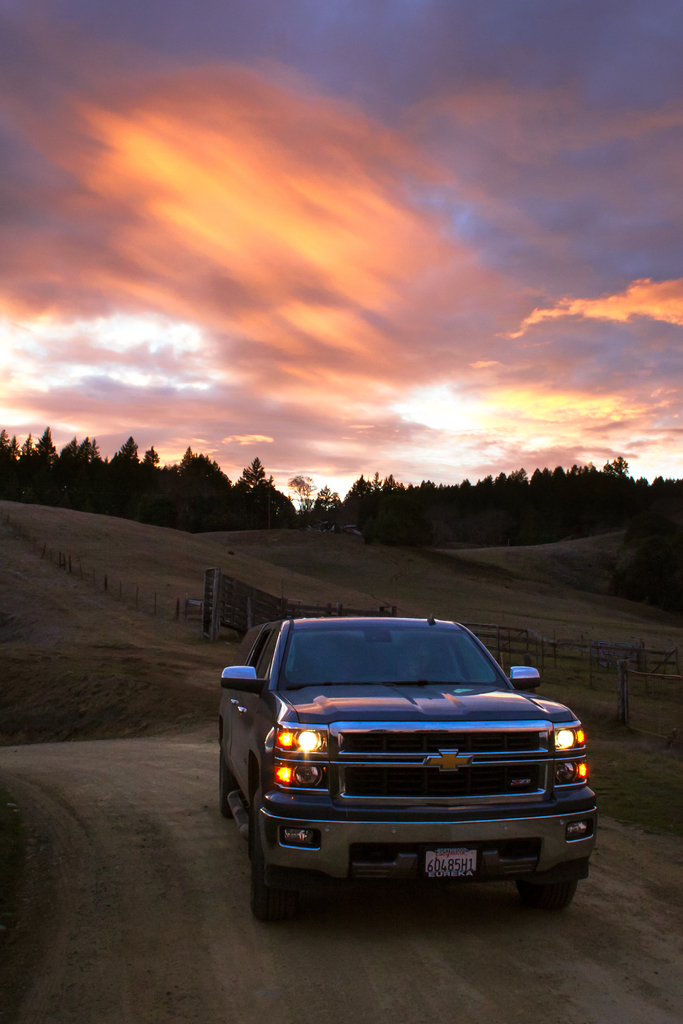Car: (210, 612, 609, 913)
